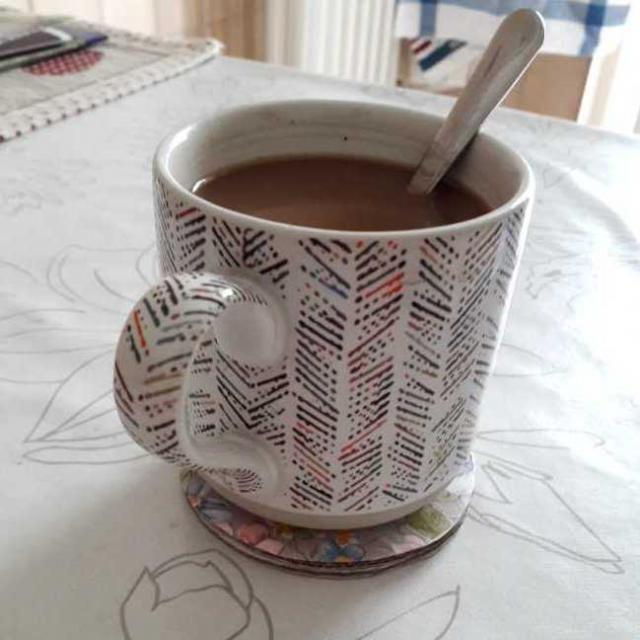coffee: (203, 154, 488, 230)
